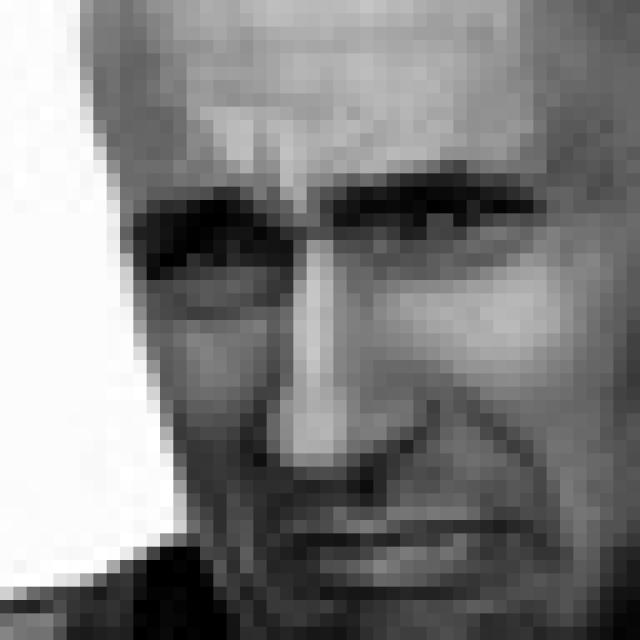disgust: (139, 156, 572, 622)
